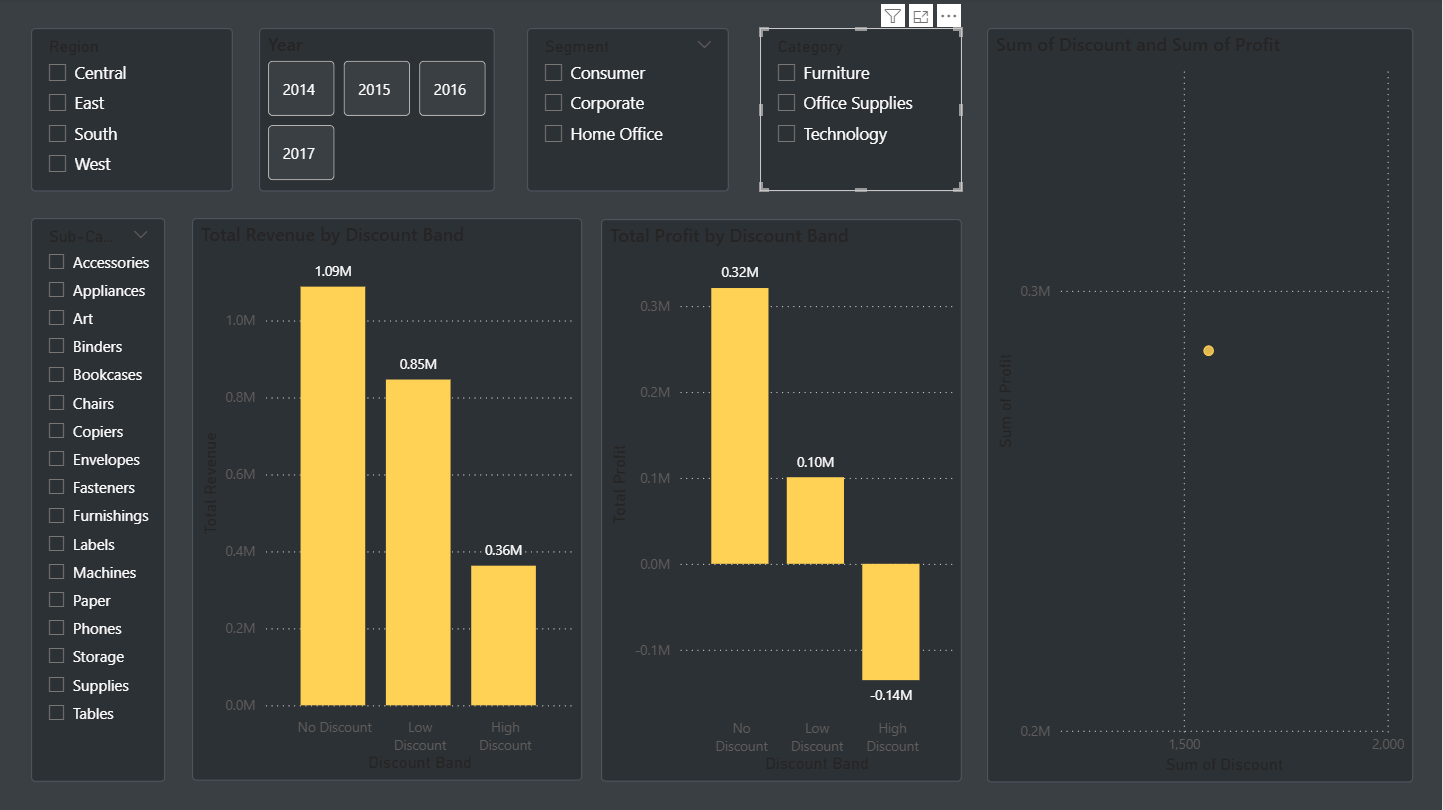

What the dashboard file says about the page in this screenshot:
{"tool":"powerbi","page":{"name":"Discount Analysis","canvas":[1280,720],"ordinal":4},"visuals":[{"type":"columnChart","fields":{"Category":["Orders.Discount Band"],"Y":["Date_Table.Total Revenue"]},"box":[170.9,195.5,346.4,499.1],"z":0},{"type":"slicer","fields":{"Values":["Orders.Segment"]},"box":[468.2,26.4,179.1,144.5],"z":1000},{"type":"scatterChart","fields":{"X":["Sum(Orders.Discount)"],"Y":["Sum(Orders.Profit)"]},"box":[876.4,26.4,378.2,669.1],"z":2000},{"type":"slicer","fields":{"Values":["Orders.Region"]},"box":[28.2,26.4,179.1,144.5],"z":3000},{"type":"slicer","fields":{"Values":["Orders.Category"]},"box":[674.5,26.4,179.1,144.5],"z":4000},{"type":"slicer","fields":{"Values":["Orders.Sub-Category"]},"box":[28.2,195.5,119.1,500],"z":5000},{"type":"advancedSlicerVisual","fields":{"Values":["Date_Table.Year"]},"box":[230.9,26.4,209.1,144.5],"z":6000},{"type":"columnChart","fields":{"Y":["Date_Table.Total Profit"],"Category":["Orders.Discount Band"]},"box":[533.6,196.4,320,499.1],"z":7000}]}

Visuals, with their boxes on the page's 1280x720 design canvas (x1, y1, x2, y2). These are canvas units, not pixel positions in the 1443x810 screenshot, which may show the page scaled, cropped or inside an application window:
columnChart - Orders.Discount Band x Date_Table.Total Revenue: [x1=171, y1=196, x2=517, y2=695]
slicer - Orders.Segment: [x1=468, y1=26, x2=647, y2=171]
scatterChart - Sum(Orders.Discount) x Sum(Orders.Profit): [x1=876, y1=26, x2=1255, y2=696]
slicer - Orders.Region: [x1=28, y1=26, x2=207, y2=171]
slicer - Orders.Category: [x1=674, y1=26, x2=854, y2=171]
slicer - Orders.Sub-Category: [x1=28, y1=196, x2=147, y2=696]
advancedSlicerVisual - Date_Table.Year: [x1=231, y1=26, x2=440, y2=171]
columnChart - Date_Table.Total Profit x Orders.Discount Band: [x1=534, y1=196, x2=854, y2=696]
